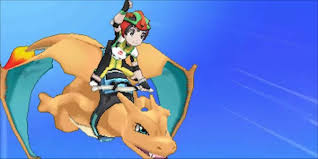charizard: (1, 32, 195, 158)
